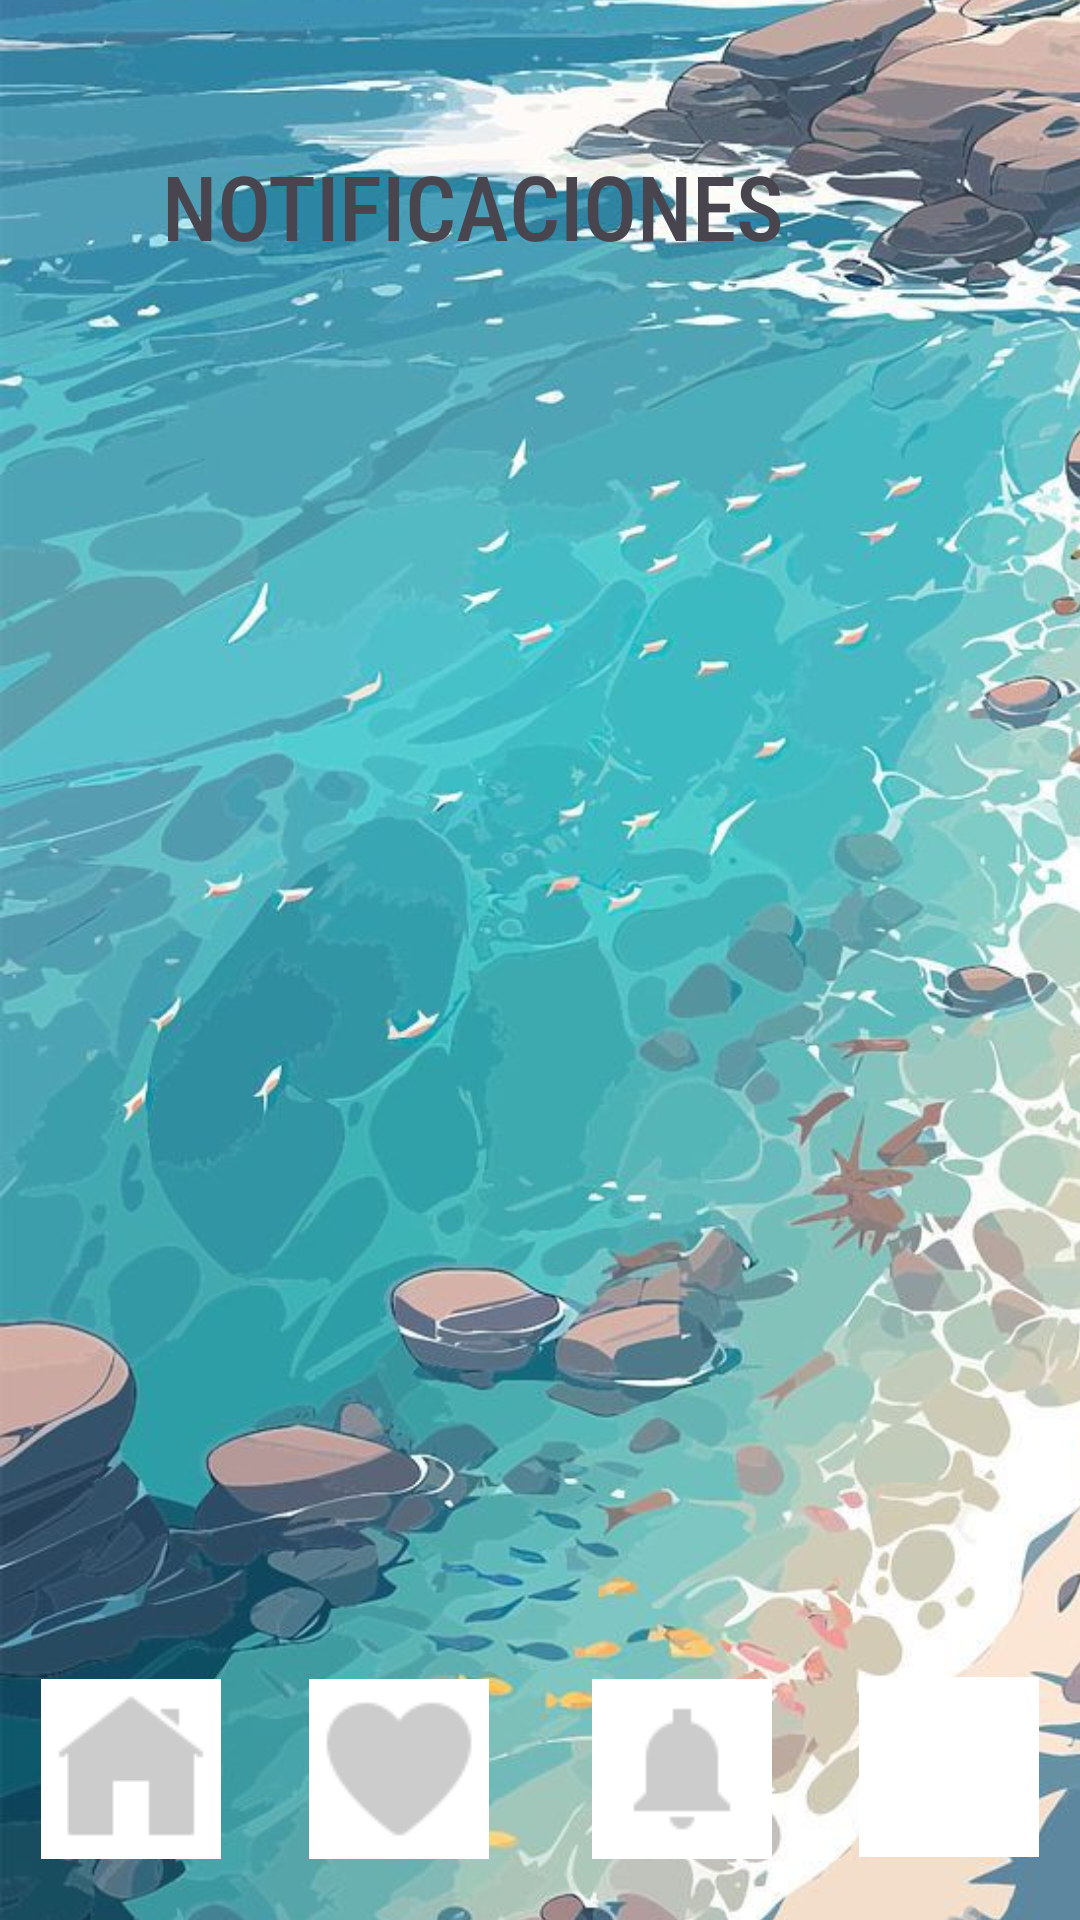

Screen size 1080px x 1920px. Icon name, then its center in pixels as [x,y]:
Destacados: [399,1769]
Inicio: [131,1769]
Notificaciones: [682,1769]
